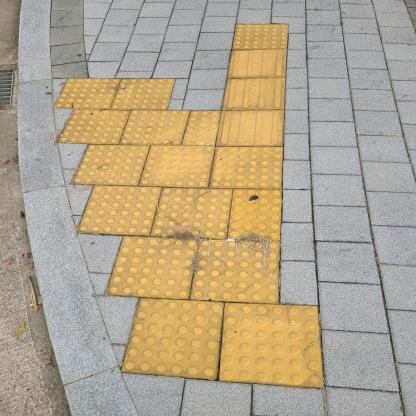podotacti: (46, 16, 336, 394)
